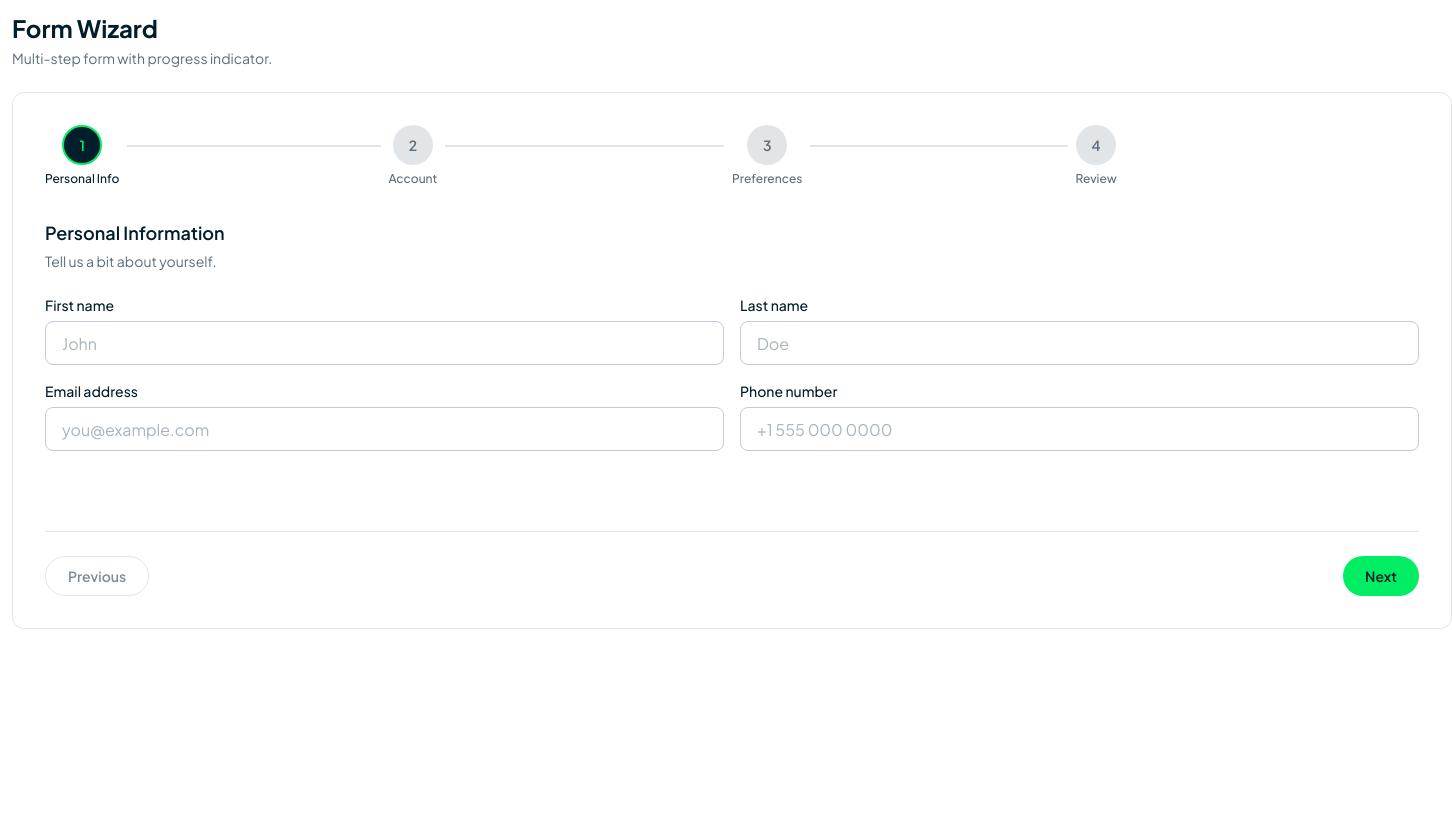
Test case: WizardPage › navigates back to step 1 from step 2
The image size is (1452, 822).
Click the button "Next" at (1381, 576), box [1343,556,1419,596]
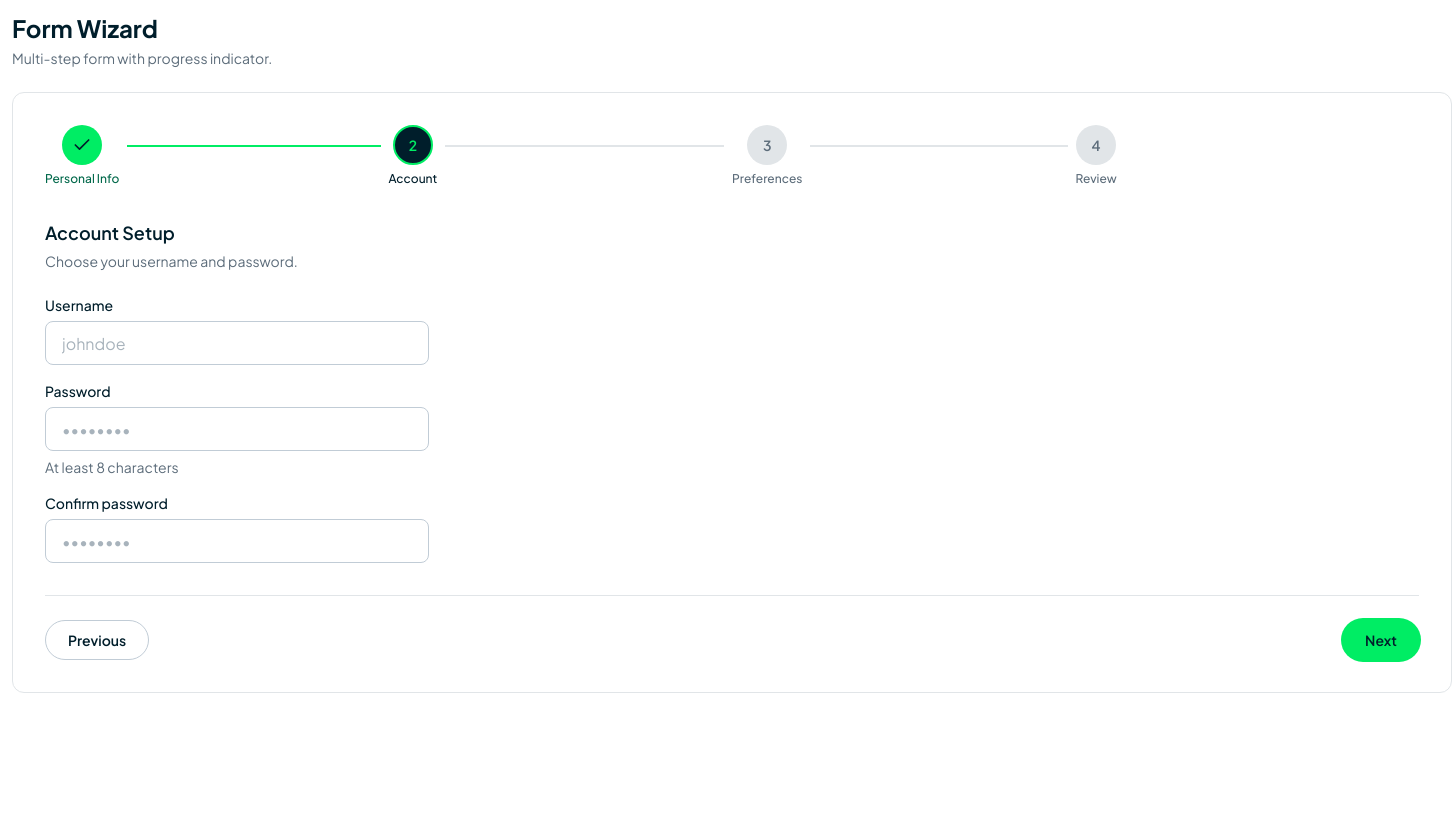
Click the button "Previous" at (97, 640), box [45,620,149,660]
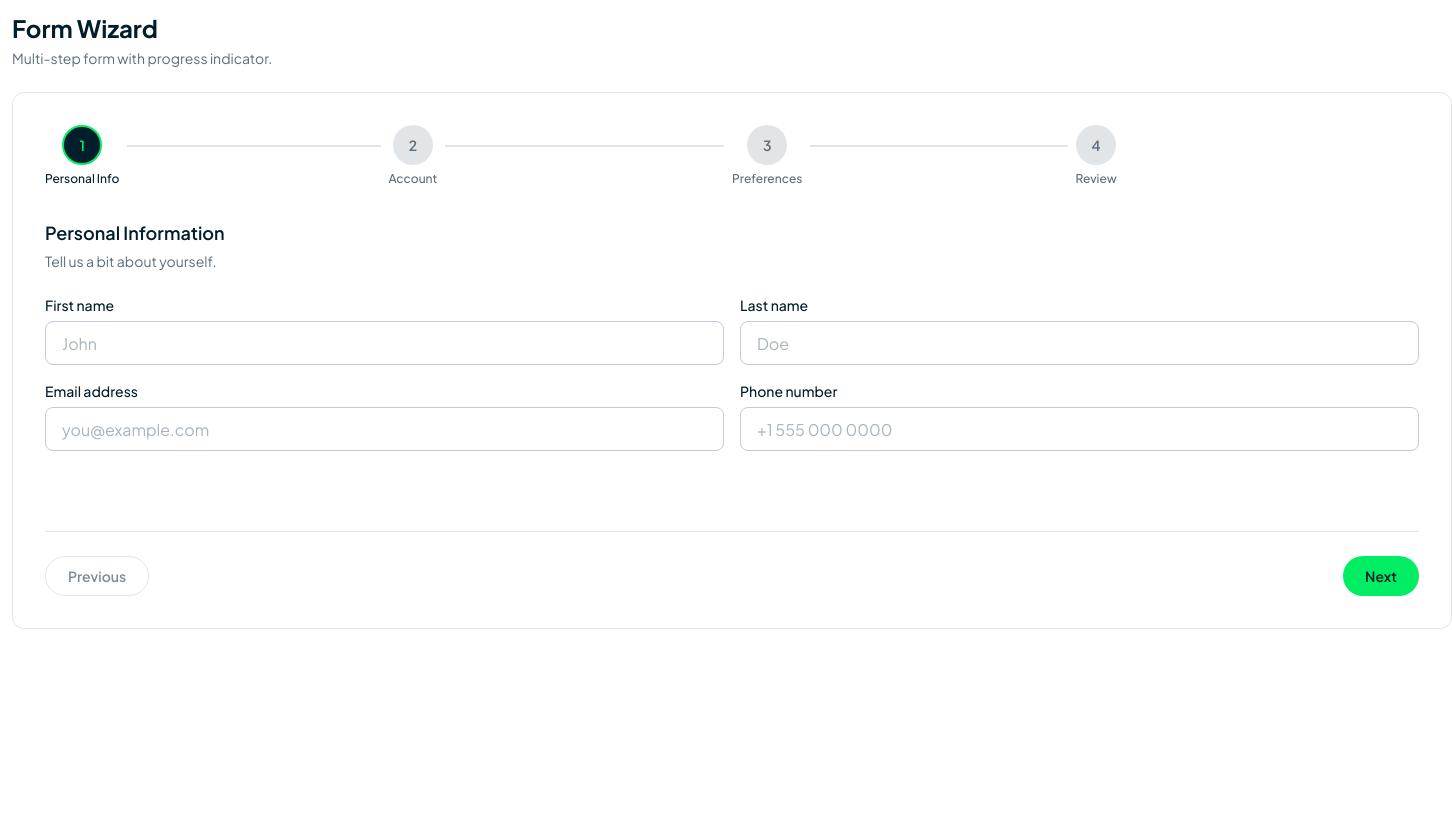
Expected: the heading "Personal Information" is shown, [45,221,225,244]
